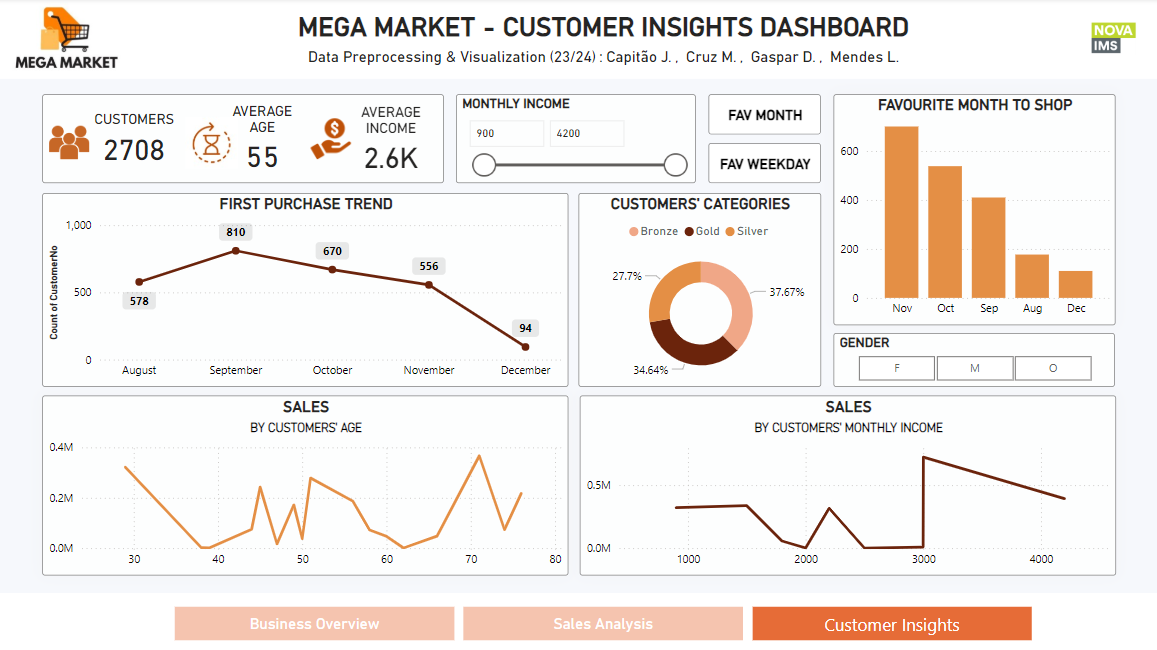

Layout of this report page (visuals, bound fields, positions):
{"tool":"powerbi","page":{"name":"Customer Insights","canvas":[1280,720],"ordinal":2},"visuals":[{"type":"basicShape","box":[50.8,105.7,440.5,97.4],"z":0,"group":"g1"},{"type":"shape","box":[0,652.9,1280,67.1],"z":0},{"type":"shape","box":[0,0,1280,88.6],"z":1000},{"type":"pageNavigator","box":[195.7,668.6,942.9,37.1],"z":2000},{"type":"image","box":[1198.6,20,58.6,47.1],"z":3000},{"type":"image","box":[10,0,135.7,88.6],"z":4000},{"type":"group","id":"g1","title":"KPI","box":[50.8,105.7,440.5,97.4],"z":5000},{"type":"textbox","box":[145.7,10,1042.9,45.7],"z":6000},{"type":"textbox","box":[145.7,50,1042.9,35.7],"z":7000},{"type":"lineChart","title":"SALES","fields":{"Category":["Transactional_Table (2).IMP_Age"],"Y":["Sum(Transactional_Table (2).Total_payed)"]},"box":[50.8,436.4,577.7,197.6],"z":8000},{"type":"lineChart","title":"SALES","fields":{"Category":["Transactional_Table (2).IMP_Monthly_Income"],"Y":["Sum(Transactional_Table (2).Total_payed)"]},"box":[640.8,436.4,588.7,197.6],"z":9000},{"type":"slicer","title":"MONTHLY INCOME","fields":{"Values":["Transactional_Table (2).IMP_Monthly_Income"]},"box":[505,105.7,263.5,97.4],"z":10000},{"type":"card","title":"CUSTOMERS","fields":{"Values":["Count(Transactional_Table (2).CustomerNo)"]},"box":[83.7,123.5,135.8,64.5],"z":11000},{"type":"card","title":"AVERAGE AGE","fields":{"Values":["Table.Avg_Age"]},"box":[244.3,115.3,96.1,79.6],"z":12000},{"type":"card","title":"AVERAGE INCOME","fields":{"Values":["Table.Avg_Income"]},"box":[378.7,116.6,109.8,79.6],"z":13000},{"type":"lineChart","title":"FIRST PURCHASE TREND","fields":{"Category":["abt_final.Date_First_Purchase.Variation.Date Hierarchy.Month"],"Y":["Count(abt_final.CustomerNo)"]},"box":[50.8,214.1,577.7,212.7],"z":14000},{"type":"columnChart","title":"FAVOURITE MONTH TO SHOP","fields":{"Category":["abt_final (2).Favourite_Month"],"Y":["Count(abt_final (2).CustomerNo)"]},"box":[919.9,105.4,309.5,253.3],"z":16000},{"type":"donutChart","title":"CUSTOMERS'' CATEGORIES","fields":{"Category":["abt_final (2).Category"],"Y":["Count(abt_final.CustomerNo)"]},"box":[639.5,214.1,266.2,212.7],"z":17000},{"type":"actionButton","title":"jkffigi","box":[782.2,105.7,123.5,43.9],"z":18000},{"type":"actionButton","box":[782.2,159.2,123.5,43.9],"z":19000},{"type":"slicer","title":"GENDER","fields":{"Values":["Transactional_Table.Gender"]},"box":[919.4,367.8,308.7,59],"z":20000},{"type":"image","box":[53.5,129,53.5,59],"z":20001},{"type":"image","box":[340.3,124.9,54.9,59],"z":20002},{"type":"image","box":[203.1,124.9,67.2,67.2],"z":20003}]}

Visuals, with their boxes in screenshot pixels (x1, y1, x2, y2), scaled from the page's 1280x720 canvas onto the 1157x650 screenshot:
basicShape: Rect(46, 95, 444, 183)
shape: Rect(0, 589, 1156, 649)
shape: Rect(0, 0, 1156, 80)
pageNavigator: Rect(177, 604, 1029, 637)
image: Rect(1083, 18, 1136, 61)
image: Rect(9, 0, 132, 80)
"KPI" group: Rect(46, 95, 444, 183)
textbox: Rect(132, 9, 1074, 50)
textbox: Rect(132, 45, 1074, 77)
"SALES" lineChart: Rect(46, 394, 568, 572)
"SALES" lineChart: Rect(579, 394, 1111, 572)
"MONTHLY INCOME" slicer: Rect(456, 95, 695, 183)
"CUSTOMERS" card: Rect(76, 111, 198, 170)
"AVERAGE AGE" card: Rect(221, 104, 308, 176)
"AVERAGE INCOME" card: Rect(342, 105, 442, 177)
"FIRST PURCHASE TREND" lineChart: Rect(46, 193, 568, 385)
"FAVOURITE MONTH TO SHOP" columnChart: Rect(832, 95, 1111, 324)
"CUSTOMERS'' CATEGORIES" donutChart: Rect(578, 193, 819, 385)
"jkffigi" actionButton: Rect(707, 95, 819, 135)
actionButton: Rect(707, 144, 819, 183)
"GENDER" slicer: Rect(831, 332, 1110, 385)
image: Rect(48, 116, 97, 170)
image: Rect(308, 113, 357, 166)
image: Rect(184, 113, 244, 173)
